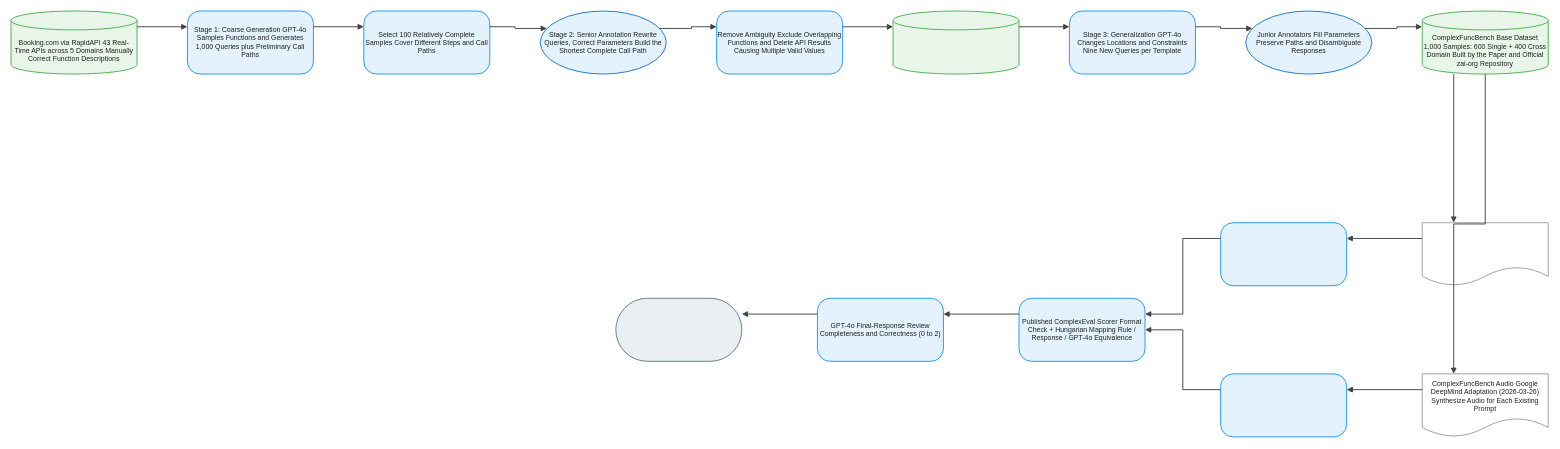
The diagram is 1560 pixels wide and 449 high, and some of its shapes have lost their labels. The shapes that lost their labels are listed below. From the top down, each one's box as (x1, y1, x2, y2) in pixels, then its label:
(892, 10, 1019, 74): Quality-Checked Template Set 100 Error-Free Complex Call Paths
(1220, 222, 1347, 286): Model Iteratively Generates Calls Receive Annotated API Responses
(1421, 222, 1548, 286): Published Text-to-Text Protocol Static Context and Interdependent Calls
(615, 298, 742, 361): Report Success Rate and Call Accuracy plus Completeness and Correctness
(1220, 373, 1347, 437): Run through Gemini Realtime API Process Audio Prompts and Function Calls
